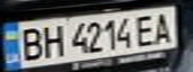1: (103, 16, 121, 51)
2: (84, 18, 106, 54)
4: (66, 19, 90, 55), (115, 15, 136, 49)
A: (148, 9, 178, 44)
B: (15, 25, 45, 62)
E: (133, 11, 160, 47)
H: (36, 22, 66, 58)
